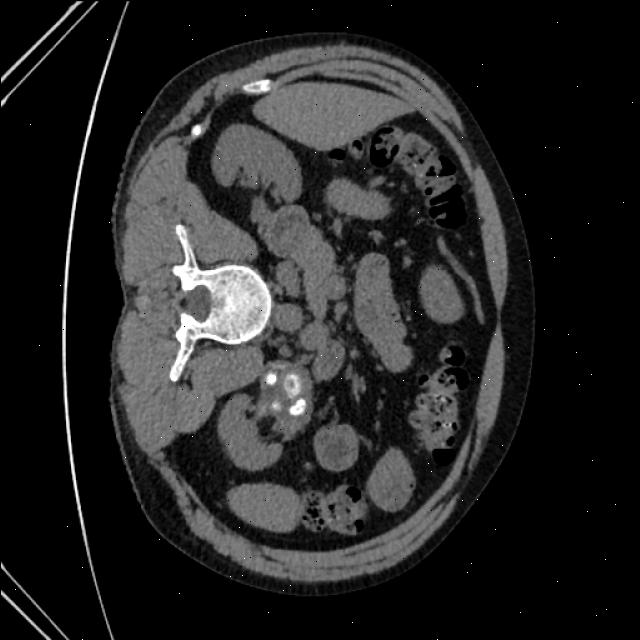kidneystone: (283, 375, 299, 396), (288, 399, 305, 415), (264, 372, 276, 385)
